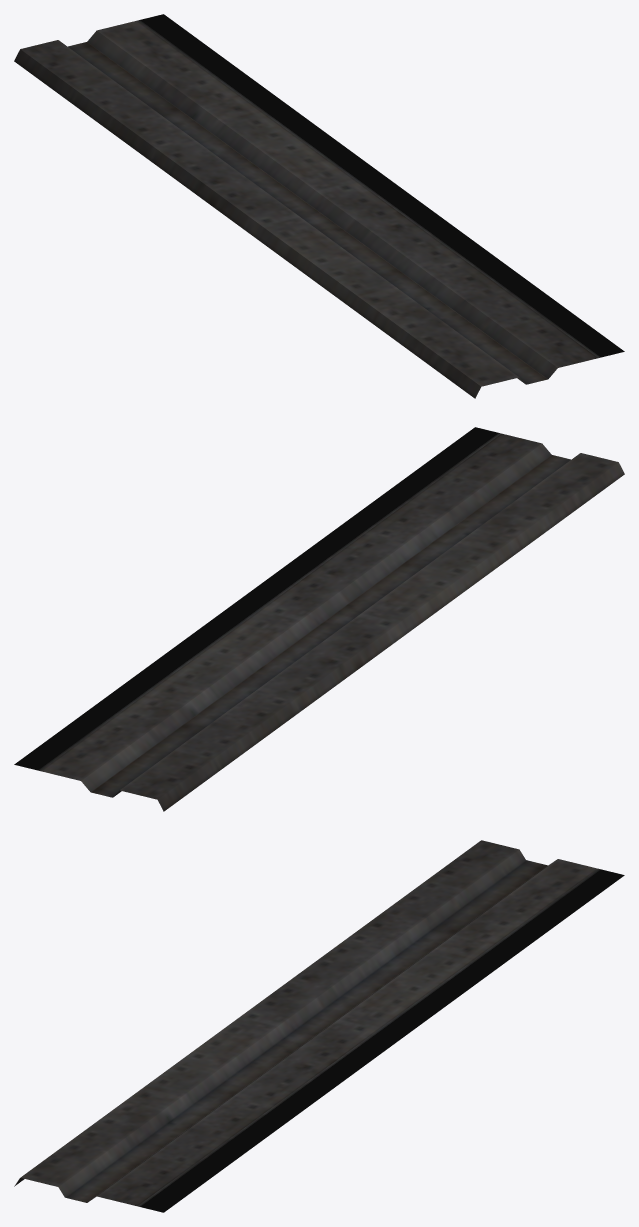
File: lab_floor_welder_short_noyellow.dae
3 renders of one model, top to bottom at view 1: azimuth 30°, elevation 25°; view 2: azimuth 150°, elevation 25°; view 3: azimuth 330°, elevation 25°, orthographic.
Parts seen in each view (by area): view 1: floor_welder_short_noyellow; view 2: floor_welder_short_noyellow; view 3: floor_welder_short_noyellow.
Part boxes in pixels (<box>): floor_welder_short_noyellow: <box>14,14,624,398</box>; floor_welder_short_noyellow: <box>14,427,624,811</box>; floor_welder_short_noyellow: <box>14,840,624,1212</box>.
Size of the model in its own units: 0.375 by 0.0254 by 2.
